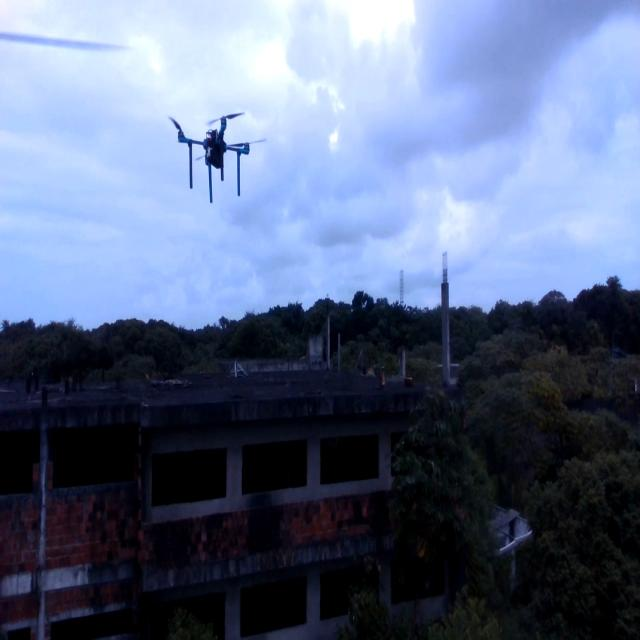-uav-: (163, 106, 265, 208)
